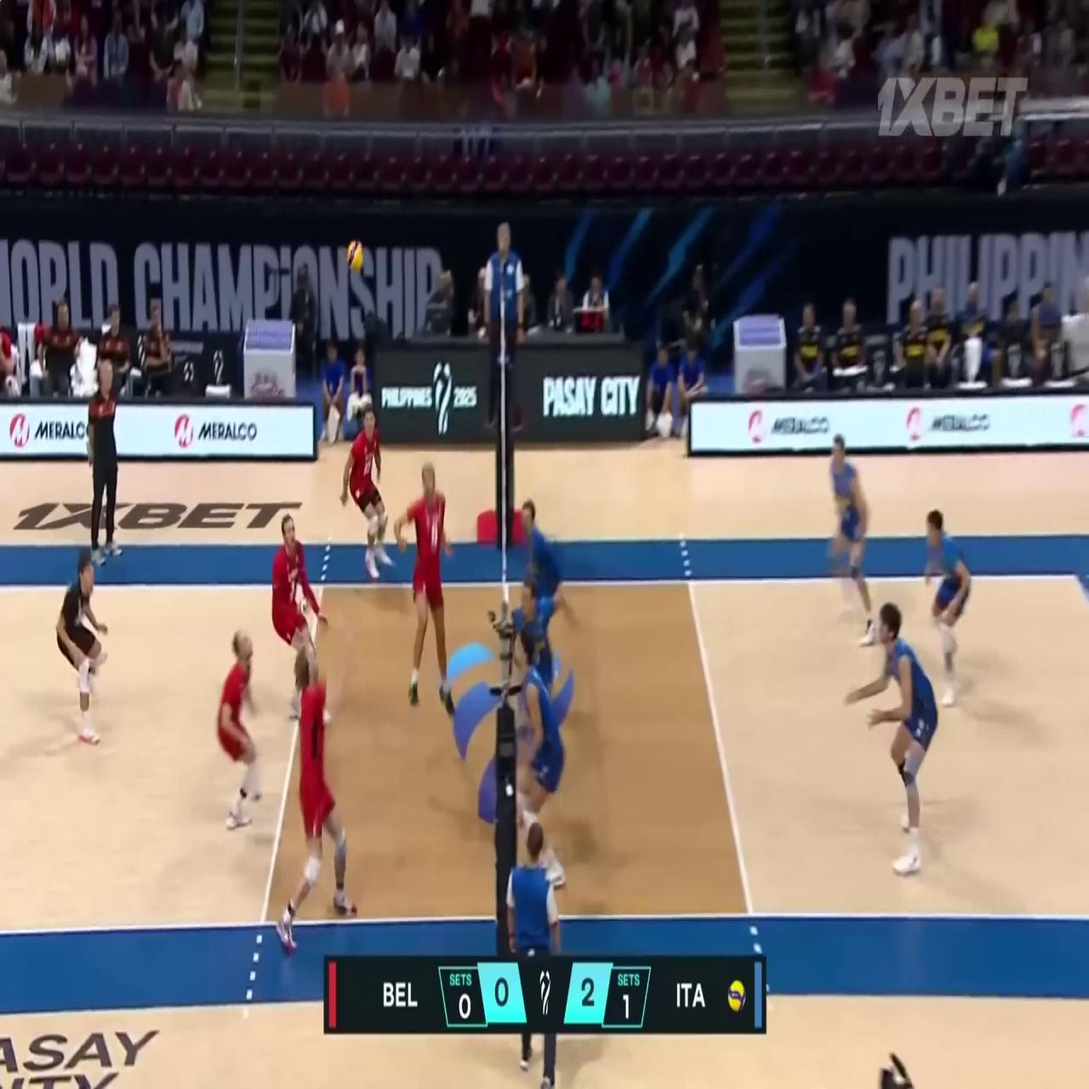ball: (346, 239, 363, 272)
